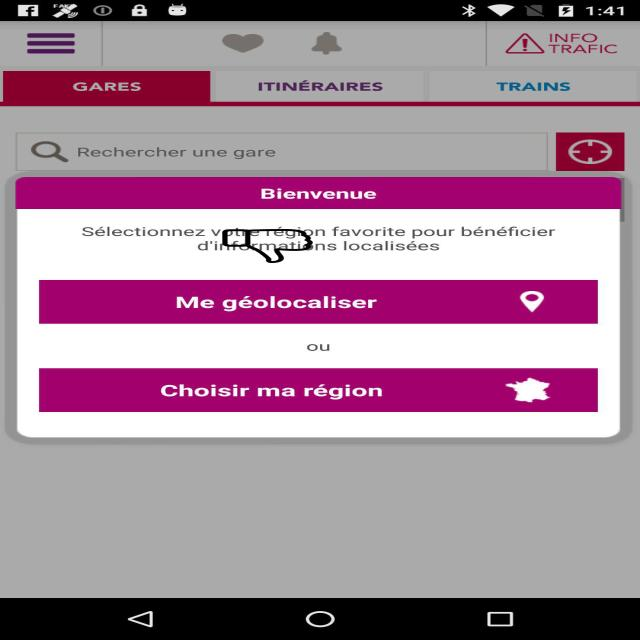obstruction: (221, 229, 314, 263)
